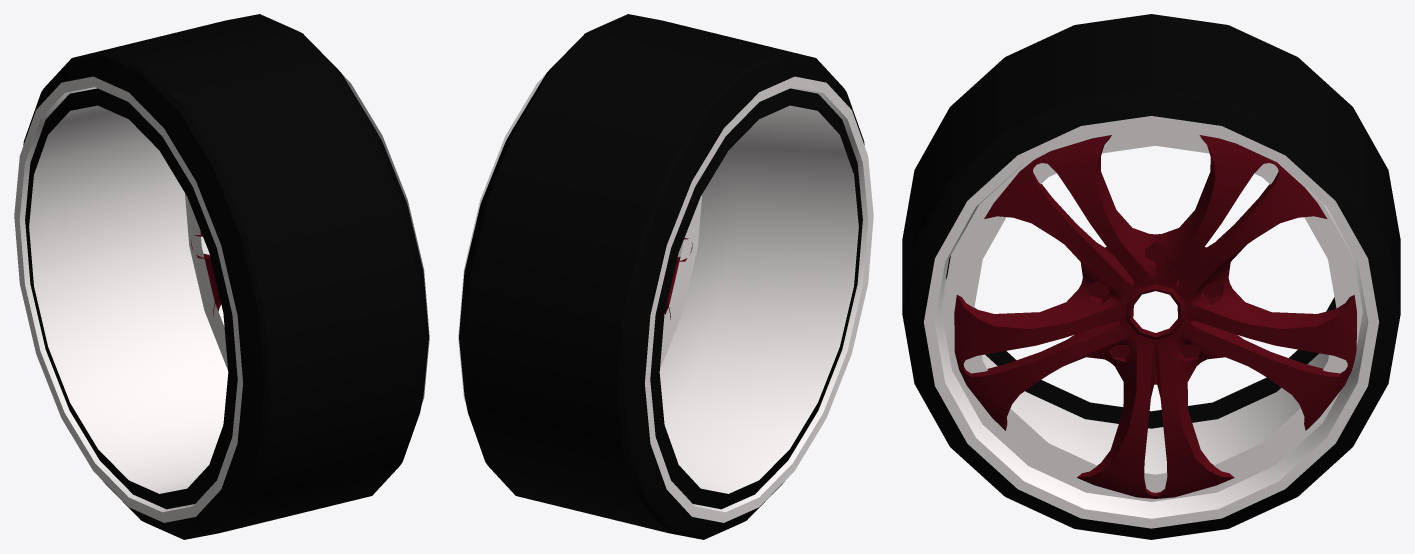
File: Car_Wheel.gltf
3 views of the same model, side by side, from view 1: azimuth 30°, elevation 25°; view 2: azimuth 150°, elevation 25°; view 3: azimuth 270°, elevation 25° (orthographic).
Parts seen in each view (by area): view 1: Object_105.001, Object_2.004, Object_1.004; view 2: Object_105.001, Object_2.004, Object_1.004; view 3: Object_105.001, Object.006, Object_2.004, Object_1.004.
Boxes of the visible parts, left/top/right/bottom form: Object_105.001: left=23, top=14, right=428, bottom=539; Object_2.004: left=14, top=74, right=429, bottom=522; Object_1.004: left=185, top=193, right=227, bottom=369; Object_105.001: left=459, top=14, right=864, bottom=539; Object_2.004: left=458, top=74, right=873, bottom=522; Object_1.004: left=660, top=194, right=702, bottom=369; Object_105.001: left=902, top=14, right=1400, bottom=539; Object.006: left=954, top=135, right=1356, bottom=498; Object_2.004: left=923, top=116, right=1379, bottom=528; Object_1.004: left=941, top=125, right=1362, bottom=501.
Size of the model in its own units: 0.2712 by 0.6308 by 0.6307.
